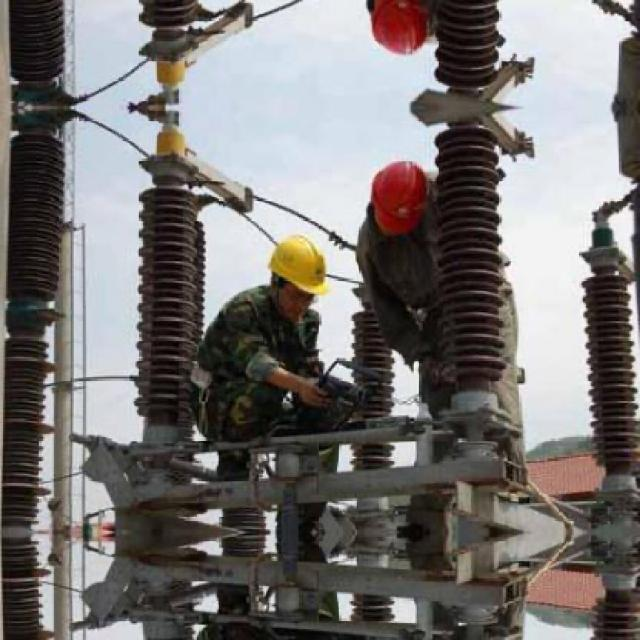helmet: (263, 229, 337, 320), (366, 155, 434, 243), (365, 0, 434, 58)
